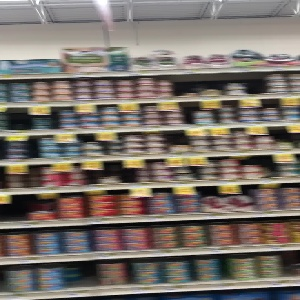void: (1, 193, 31, 222), (65, 261, 94, 287), (119, 161, 141, 188), (8, 105, 29, 130), (246, 72, 264, 94)
